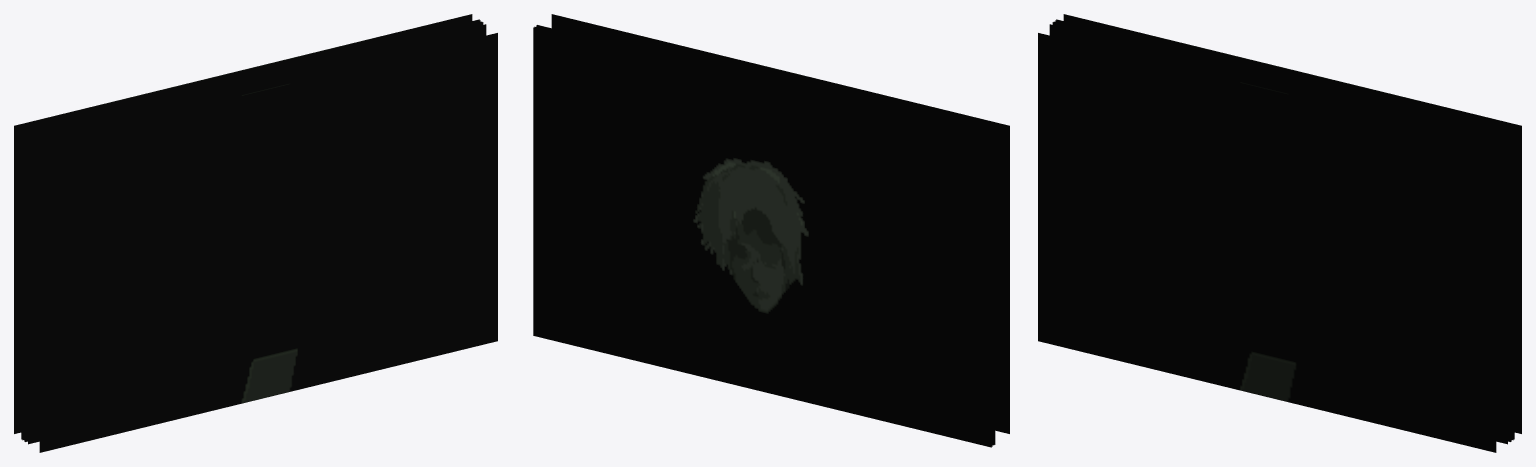
File: Character_fbx (1).fbx
3 renders of one model, left to right at view 1: azimuth 30°, elevation 25°; view 2: azimuth 150°, elevation 25°; view 3: azimuth 330°, elevation 25°, orthographic.
Visible parts, largest first — view 1: pPlane55, pPlane56, pPlane61, pPlane60, pPlane58, pPlane59, pPlane57; view 2: pPlane59, pPlane55, pPlane57, pPlane58, pPlane60; view 3: pPlane55, pPlane56, pPlane61, pPlane60, pPlane58, pPlane59, pPlane57.
Boxes of the visible parts, bbox=[...] form: pPlane55: bbox=[39, 33, 497, 452]; pPlane56: bbox=[28, 24, 486, 444]; pPlane61: bbox=[14, 14, 472, 433]; pPlane60: bbox=[25, 22, 483, 441]; pPlane58: bbox=[22, 20, 480, 440]; pPlane59: bbox=[21, 19, 479, 439]; pPlane57: bbox=[24, 21, 481, 441]; pPlane59: bbox=[533, 27, 991, 447]; pPlane55: bbox=[551, 14, 1009, 433]; pPlane57: bbox=[536, 25, 994, 445]; pPlane58: bbox=[534, 26, 992, 446]; pPlane60: bbox=[537, 25, 995, 444]; pPlane55: bbox=[1038, 33, 1496, 452]; pPlane56: bbox=[1049, 24, 1507, 444]; pPlane61: bbox=[1063, 14, 1521, 433]; pPlane60: bbox=[1052, 22, 1510, 441]; pPlane58: bbox=[1055, 20, 1513, 440]; pPlane59: bbox=[1056, 19, 1514, 439]; pPlane57: bbox=[1054, 21, 1511, 441].
Bounding box in the file's own units: 1.55 × 1 × 0.1506.
Materials: 7 (7 with a texture image).
